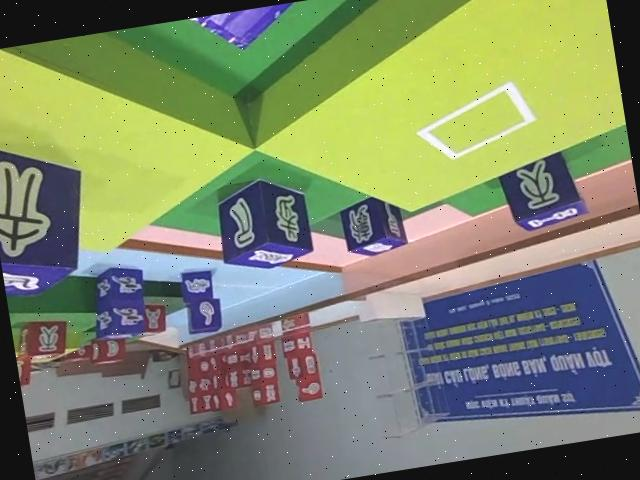R2 Fake Blue: (0, 117, 99, 302), (210, 168, 316, 272), (497, 147, 592, 234), (335, 192, 408, 261)
